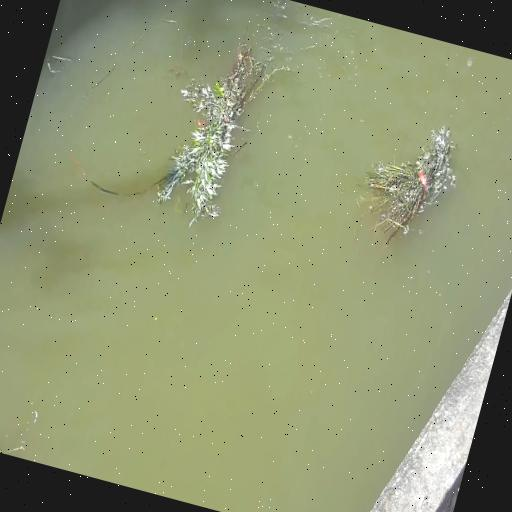twig: (146, 16, 286, 238), (348, 107, 466, 263)
